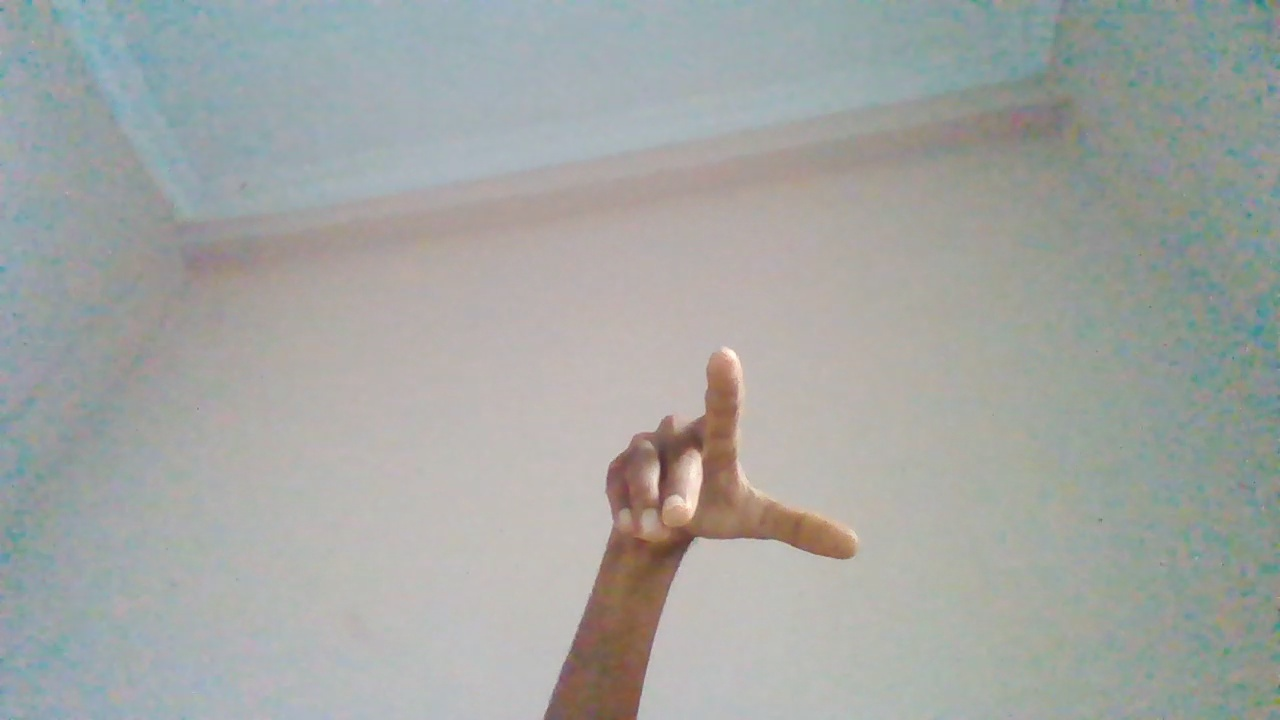ke: (592, 344, 848, 690)
